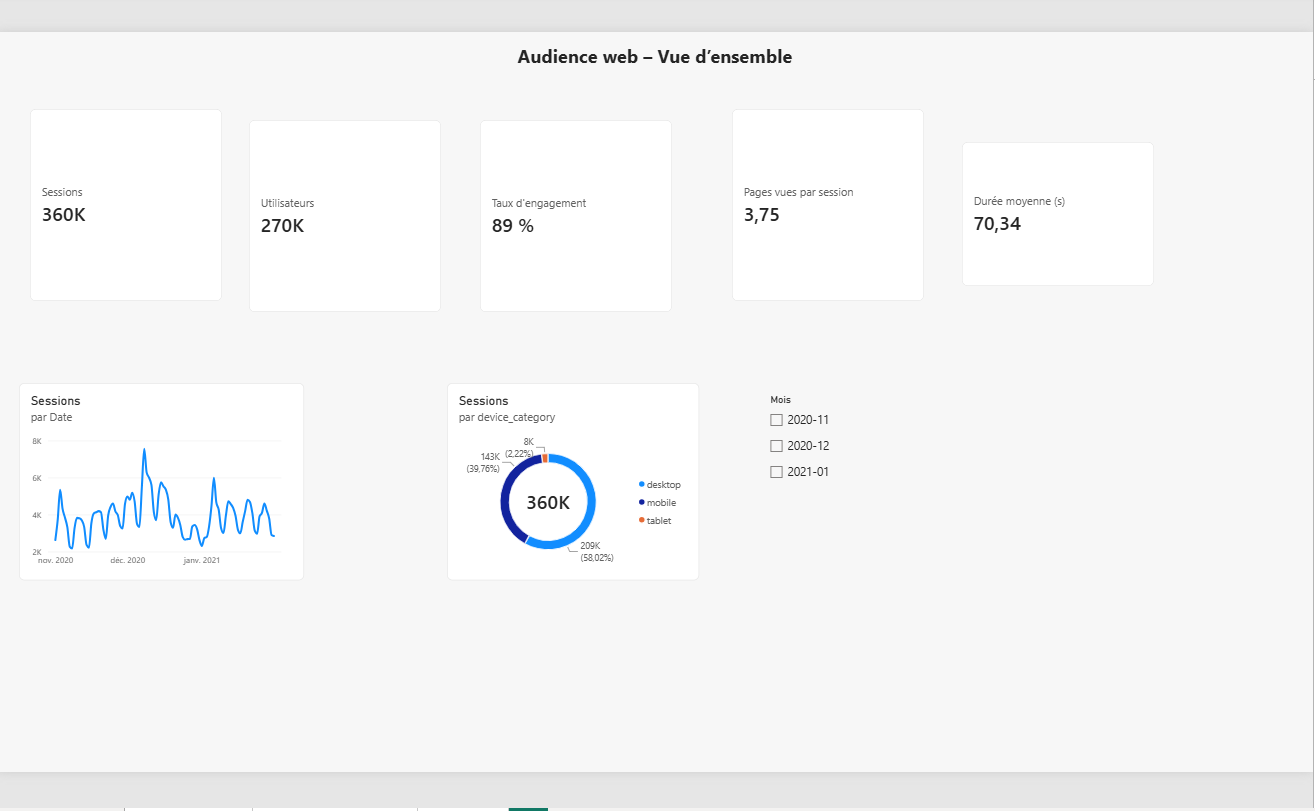

The dashboard page shown, as its layout file describes it:
{"tool":"powerbi","page":{"name":"Vue d'ensemble","canvas":[1920,1080],"ordinal":0},"visuals":[{"type":"cardVisual","fields":{"Data":["sessions.Sessions"]},"box":[48,112,280,280],"z":0},{"type":"cardVisual","fields":{"Data":["sessions.Taux d'engagement"]},"box":[704,128,280,280],"z":1000},{"type":"cardVisual","fields":{"Data":["sessions.Pages vues par session"]},"box":[1072,112,280,280],"z":2000},{"type":"cardVisual","fields":{"Data":["sessions.Durée moyenne (s)"]},"box":[1408,160,280,210],"z":3000},{"type":"cardVisual","fields":{"Data":["sessions.Utilisateurs"]},"box":[368,128,280,280],"z":4000},{"type":"lineChart","fields":{"Category":["Calendrier.Date"],"Y":["sessions.Sessions"]},"box":[32,512,416,288],"z":5000},{"type":"donutChart","fields":{"Category":["sessions.device_category"],"Y":["sessions.Sessions"]},"box":[656,512,368,288],"z":6000},{"type":"slicer","fields":{"Values":["Calendrier.Mois"]},"box":[1120,528,416,288],"z":7000},{"type":"textbox","box":[0,16,1920,64],"z":8000}]}

Visuals, with their boxes on the page's 1920x1080 design canvas (x1, y1, x2, y2). These are canvas units, not pixel positions in the 1315x811 screenshot, which may show the page scaled, cropped or inside an application window:
cardVisual - sessions.Sessions: box=[48, 112, 328, 392]
cardVisual - sessions.Taux d'engagement: box=[704, 128, 984, 408]
cardVisual - sessions.Pages vues par session: box=[1072, 112, 1352, 392]
cardVisual - sessions.Durée moyenne (s): box=[1408, 160, 1688, 370]
cardVisual - sessions.Utilisateurs: box=[368, 128, 648, 408]
lineChart - Calendrier.Date x sessions.Sessions: box=[32, 512, 448, 800]
donutChart - sessions.device_category x sessions.Sessions: box=[656, 512, 1024, 800]
slicer - Calendrier.Mois: box=[1120, 528, 1536, 816]
textbox: box=[0, 16, 1920, 80]
